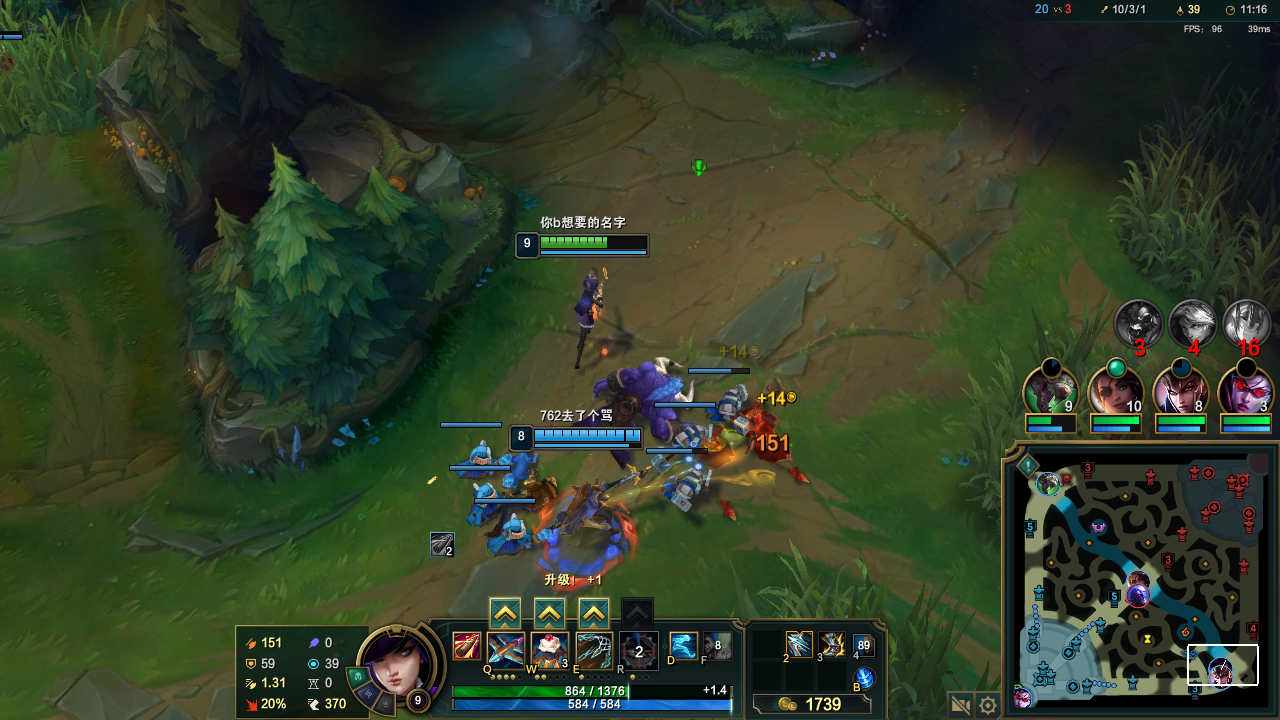Shenji: (494, 599, 516, 625), (582, 606, 604, 628), (540, 599, 559, 622)
WFXB: (487, 515, 527, 551), (457, 438, 496, 472), (672, 472, 708, 504), (471, 482, 501, 515), (714, 385, 743, 419), (664, 428, 707, 447)
